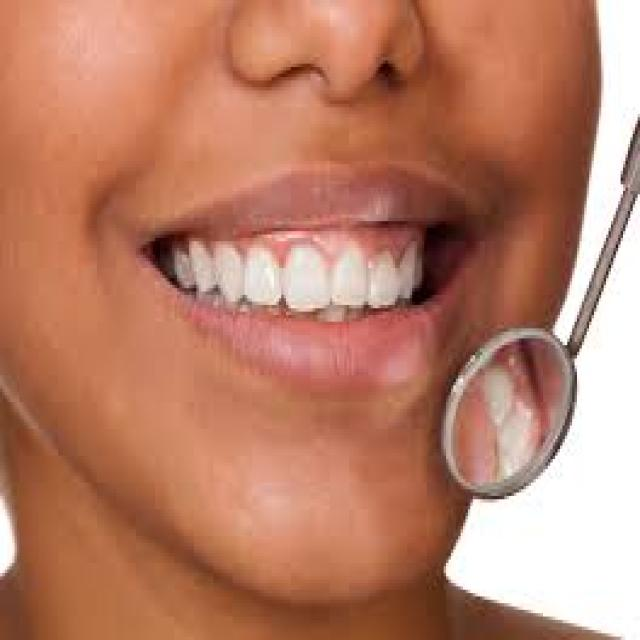tooth: (279, 241, 327, 312), (329, 248, 368, 308), (368, 234, 398, 312), (240, 248, 279, 305), (184, 241, 221, 292), (400, 238, 427, 295), (216, 248, 242, 295), (170, 245, 189, 288)
